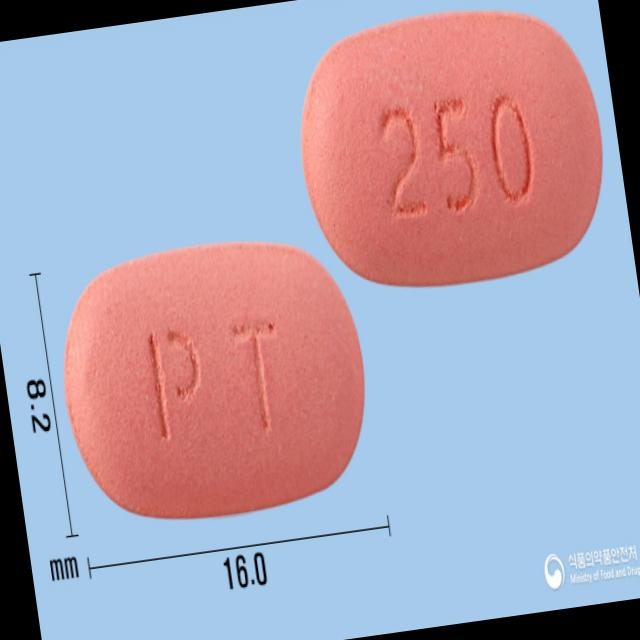Clarion: (46, 221, 384, 536), (285, 0, 617, 301)
